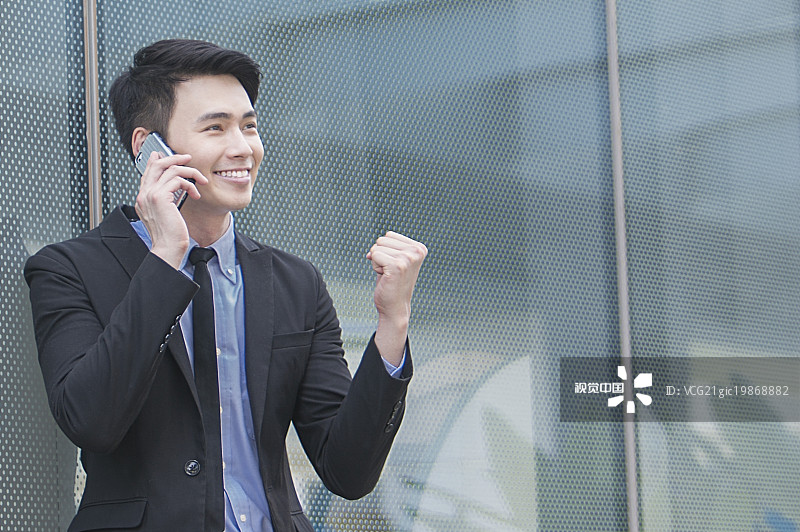calling: (109, 131, 207, 279)
no-phone: (347, 213, 455, 363)
